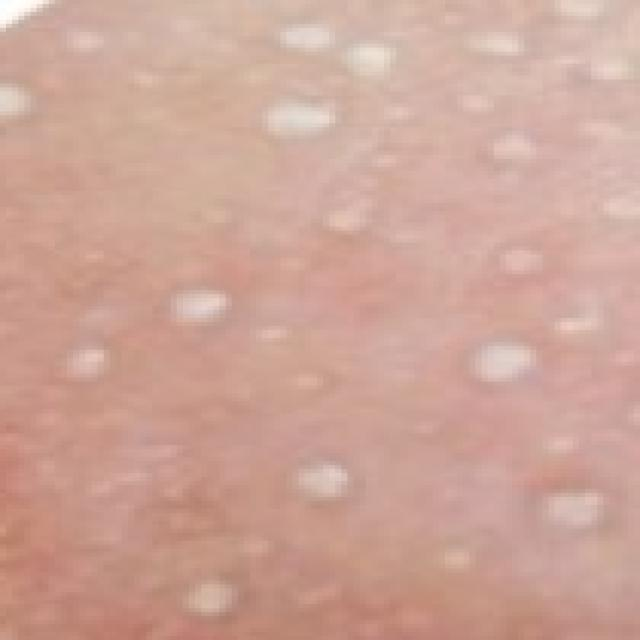whitehead: (42, 15, 640, 617)
